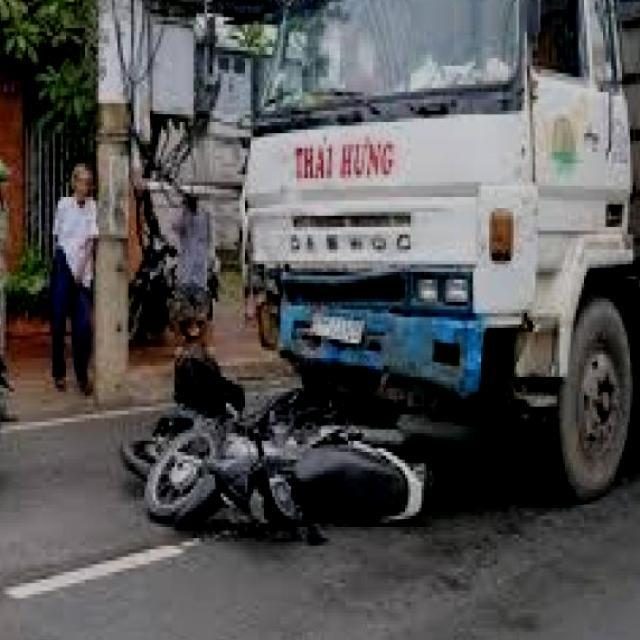accident: (108, 238, 564, 603)
